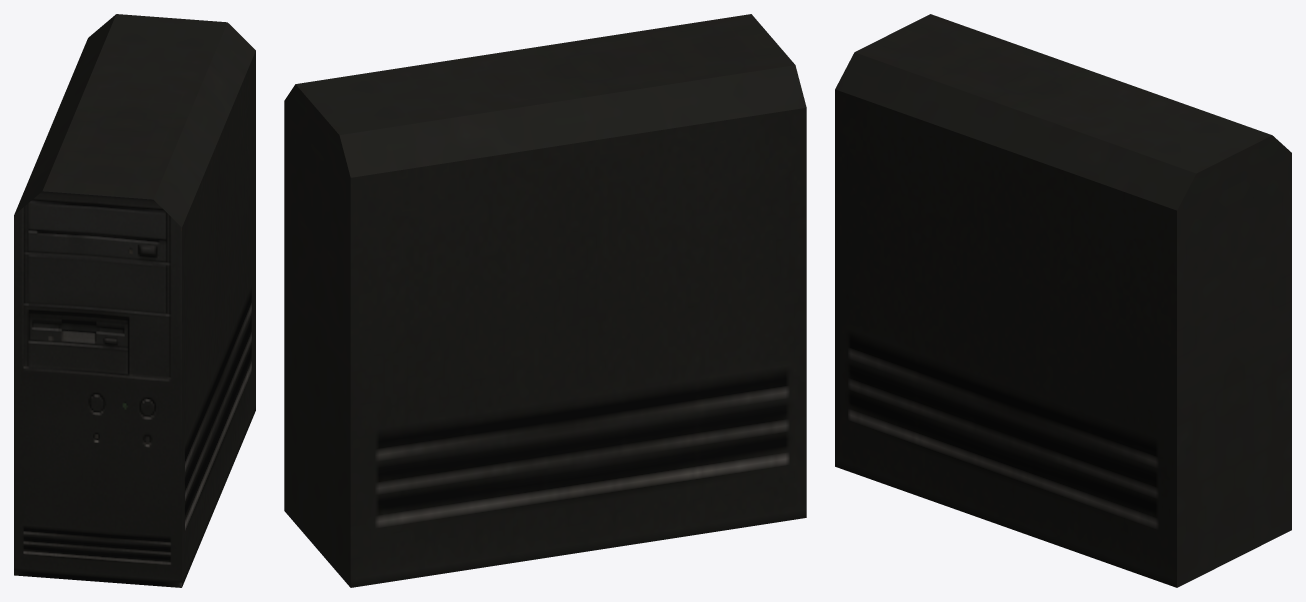
The picture shows the model from 3 angles, left to right: view 1: azimuth 30°, elevation 25°; view 2: azimuth 150°, elevation 25°; view 3: azimuth 270°, elevation 25°; orthographic projection. The views are drawn at different scales.
Parts seen in each view (by area): view 1: case_pc002_atlas_dormitorioelectro_0; view 2: case_pc002_atlas_dormitorioelectro_0; view 3: case_pc002_atlas_dormitorioelectro_0.
Part boxes in pixels (x1,y1,x2,y2): case_pc002_atlas_dormitorioelectro_0: [14, 14, 255, 587]; case_pc002_atlas_dormitorioelectro_0: [284, 14, 806, 587]; case_pc002_atlas_dormitorioelectro_0: [835, 14, 1291, 587].
Bounding box in the file's own units: 0.4465 × 0.4704 × 0.4813.
Materials: 1 (1 with a texture image).
